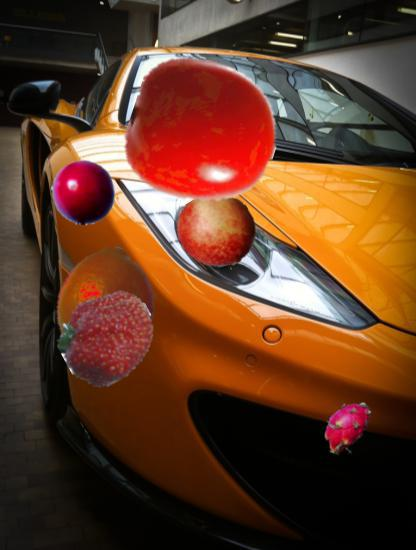Nectarine: (178, 192, 256, 270)
Pitahaya: (317, 398, 375, 456)
Strawberry: (59, 288, 157, 386)
Tamarillo: (51, 160, 116, 225)
Tangelo: (50, 246, 164, 360)
Tomato: (130, 58, 278, 206)
